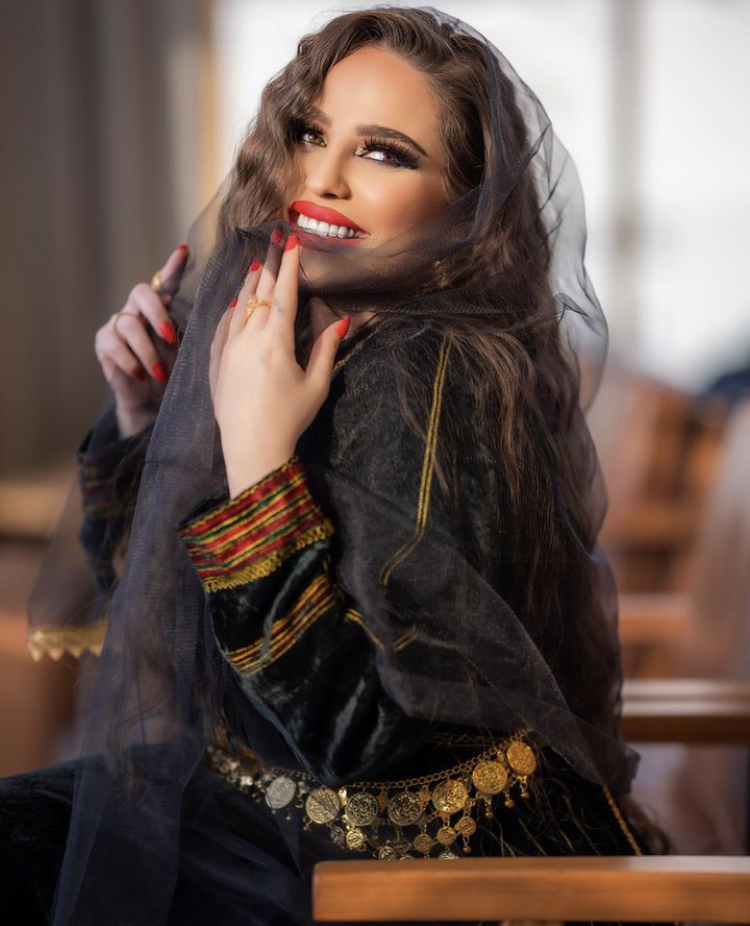Saudi_Founding_Day: (1, 4, 685, 926)
